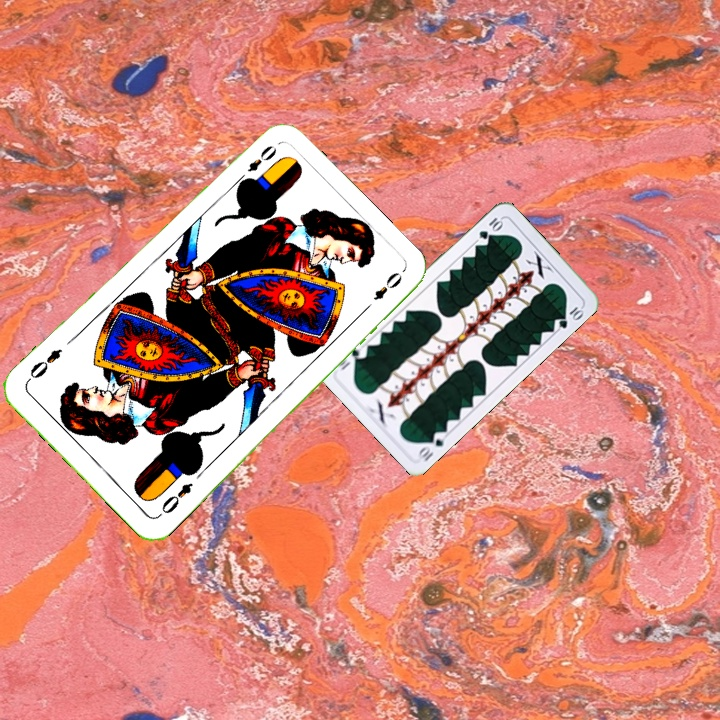EO: (232, 141, 279, 187), (154, 478, 196, 519)
G10: (414, 427, 450, 464), (475, 213, 506, 242)
